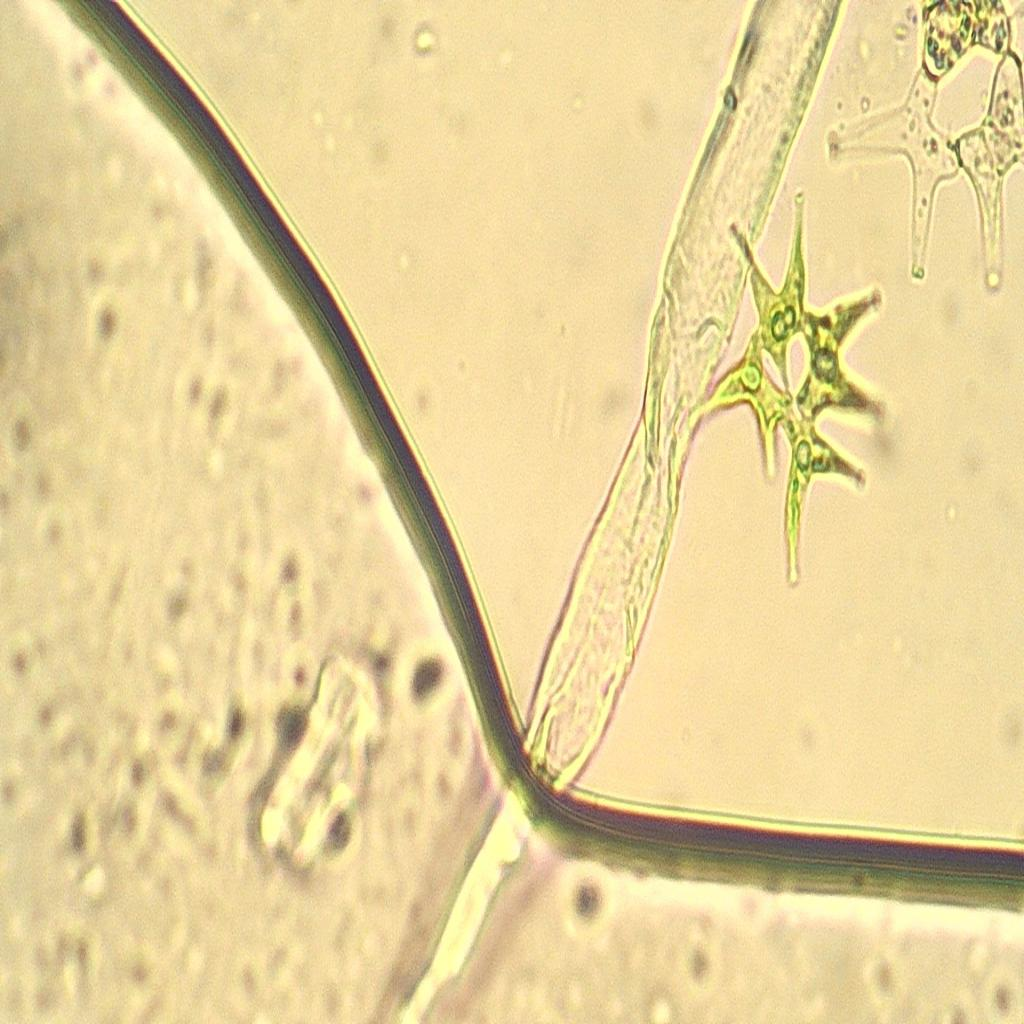Pediastrum_CF: (686, 184, 903, 596)
